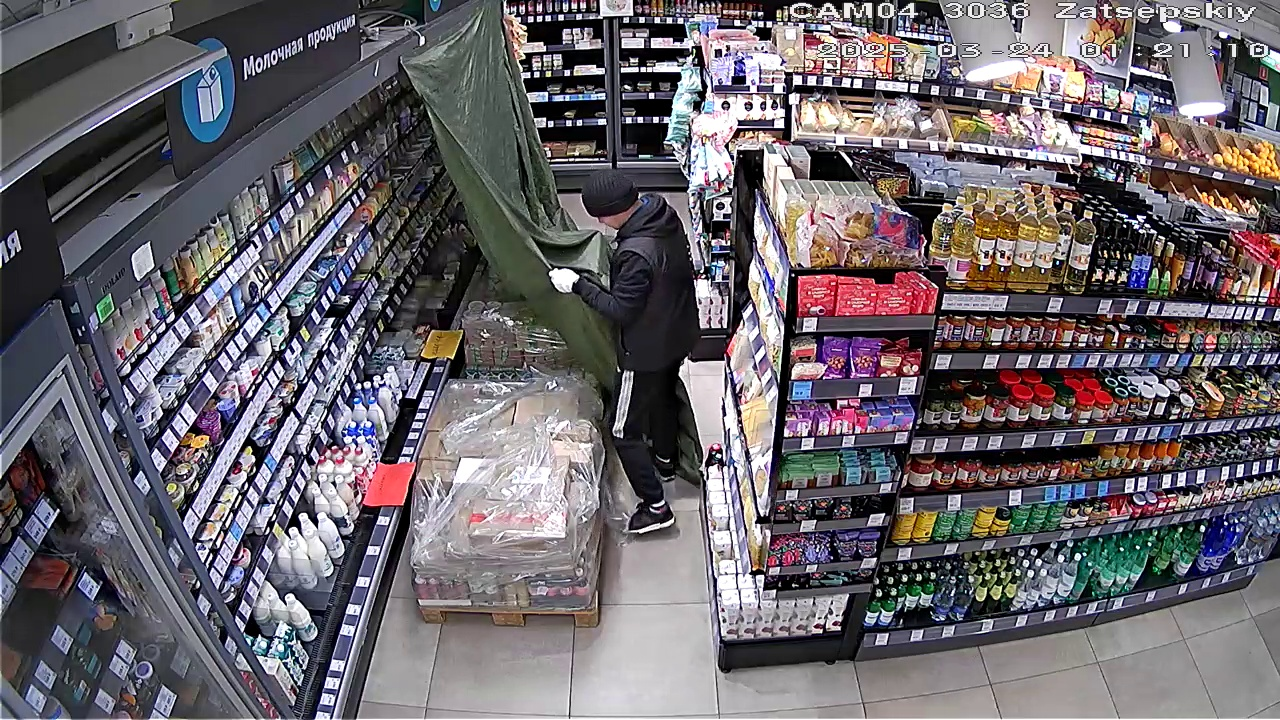Human: (543, 166, 684, 530)
dome: (399, 22, 546, 269)
pallet: (422, 367, 601, 620)
